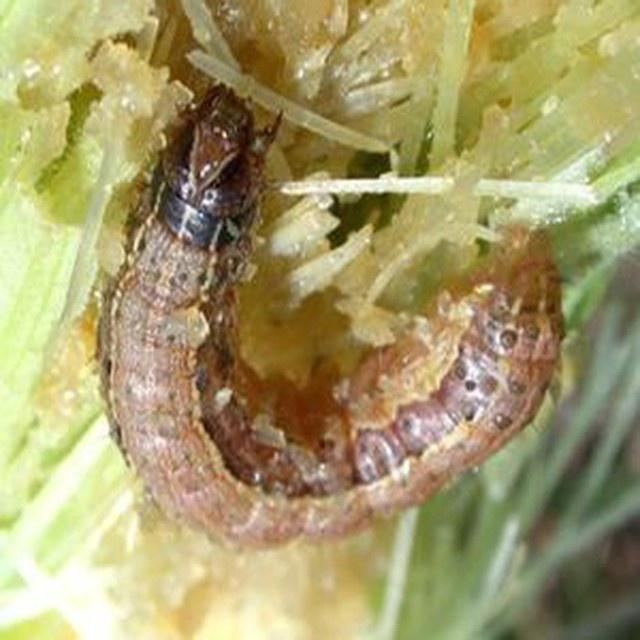gusano_cogollero: (102, 78, 565, 555)
